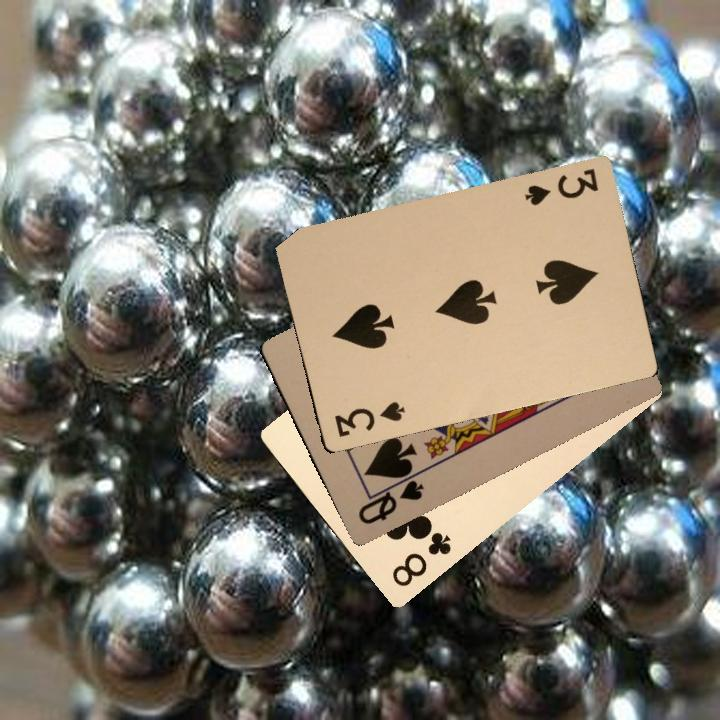3s: (521, 164, 601, 208), (331, 397, 408, 439)
8c: (387, 527, 454, 590)
Qs: (351, 468, 427, 527)
